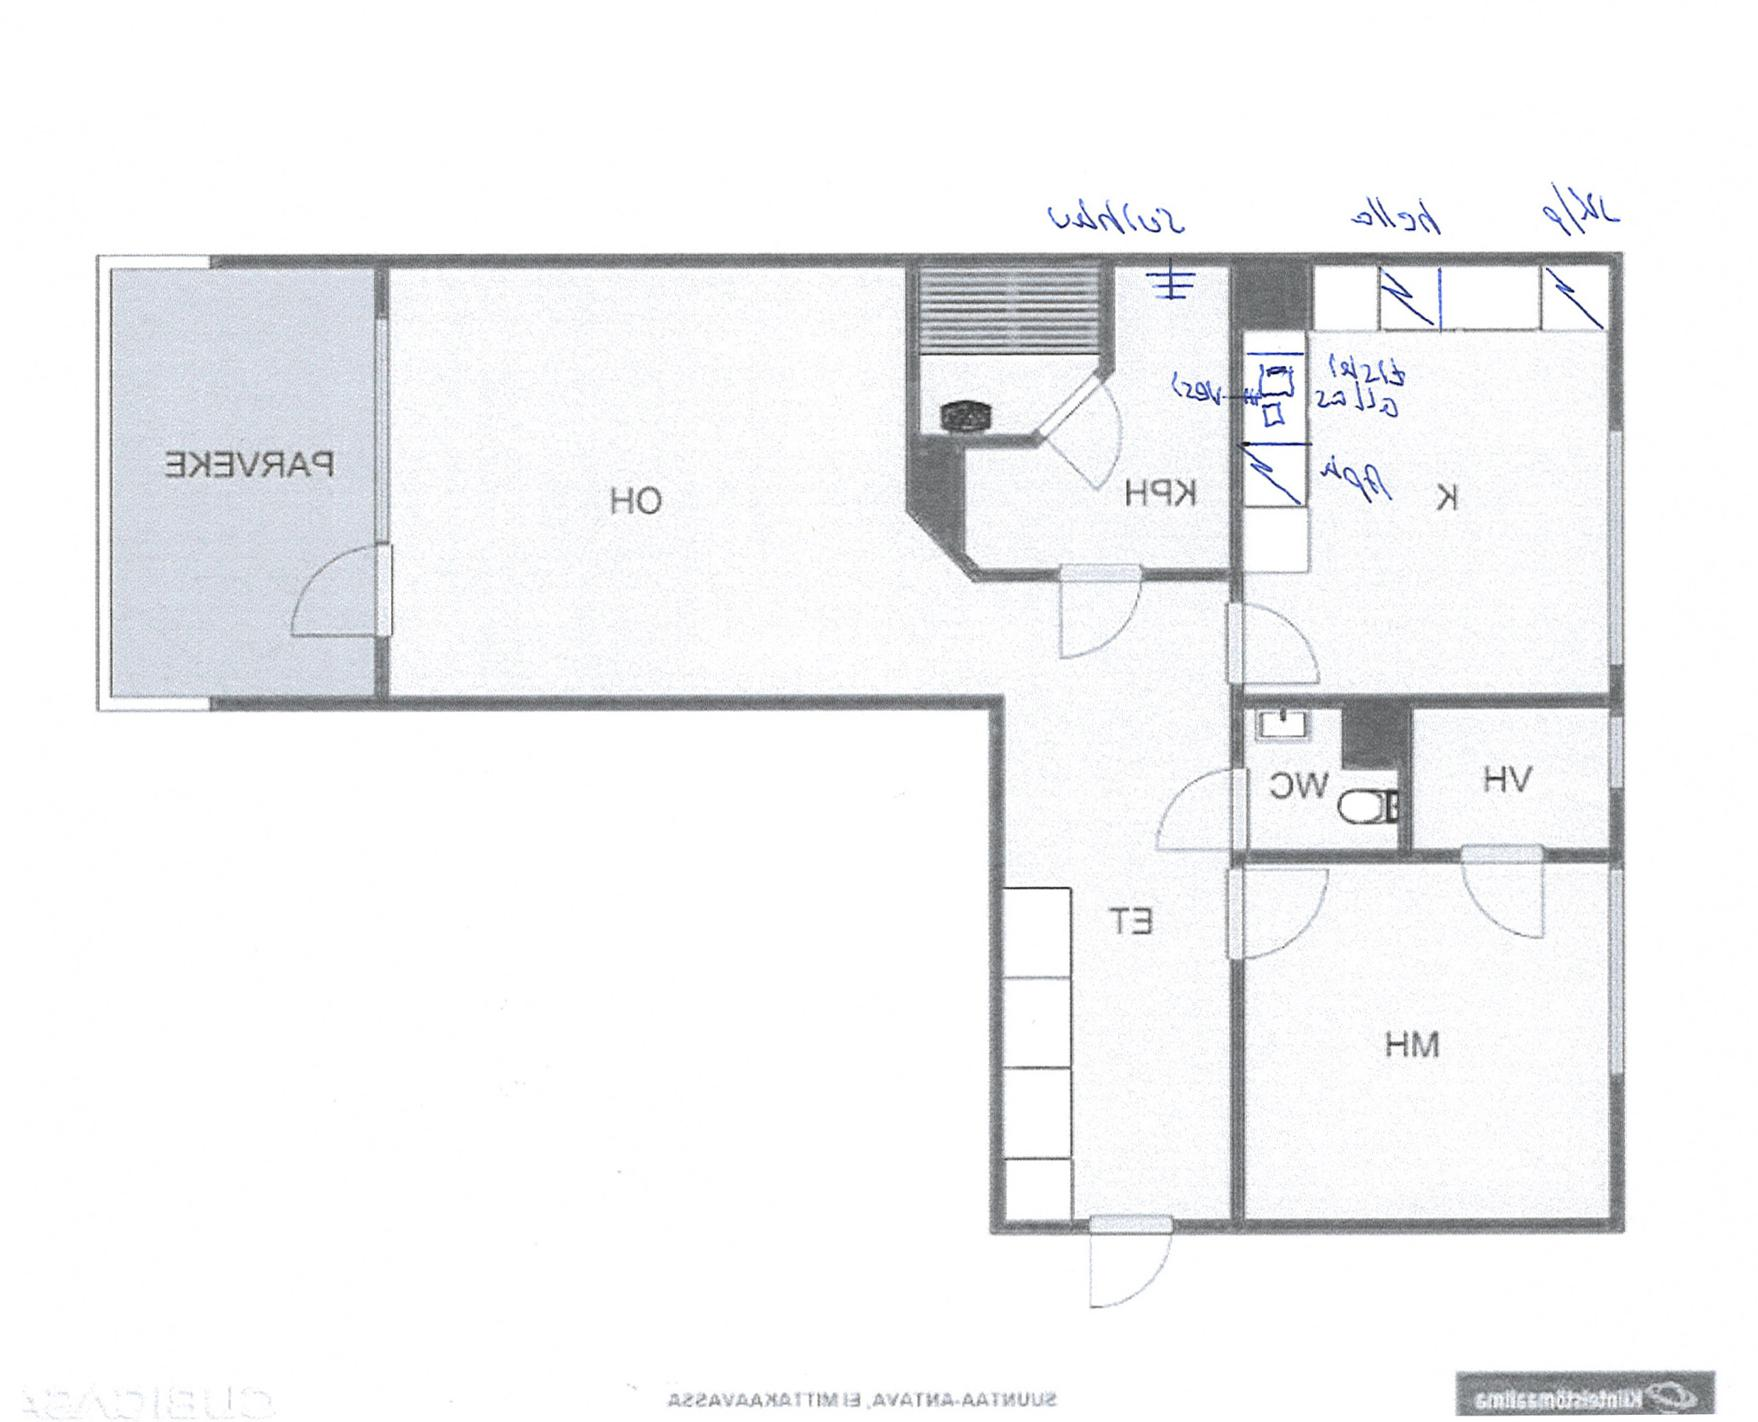bathroom: (1247, 710, 1401, 846)
door: (286, 543, 402, 646), (1037, 371, 1130, 495), (1049, 557, 1150, 666), (1223, 866, 1340, 958), (1081, 1213, 1182, 1318), (1155, 763, 1258, 859), (1462, 844, 1553, 952), (1227, 596, 1326, 692)
perimeter: (368, 247, 1635, 1242)
window: (1603, 415, 1633, 681), (364, 305, 396, 551), (1606, 855, 1630, 1087), (1606, 707, 1630, 797)
